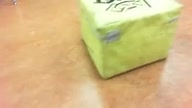cube: (80, 1, 184, 80)
